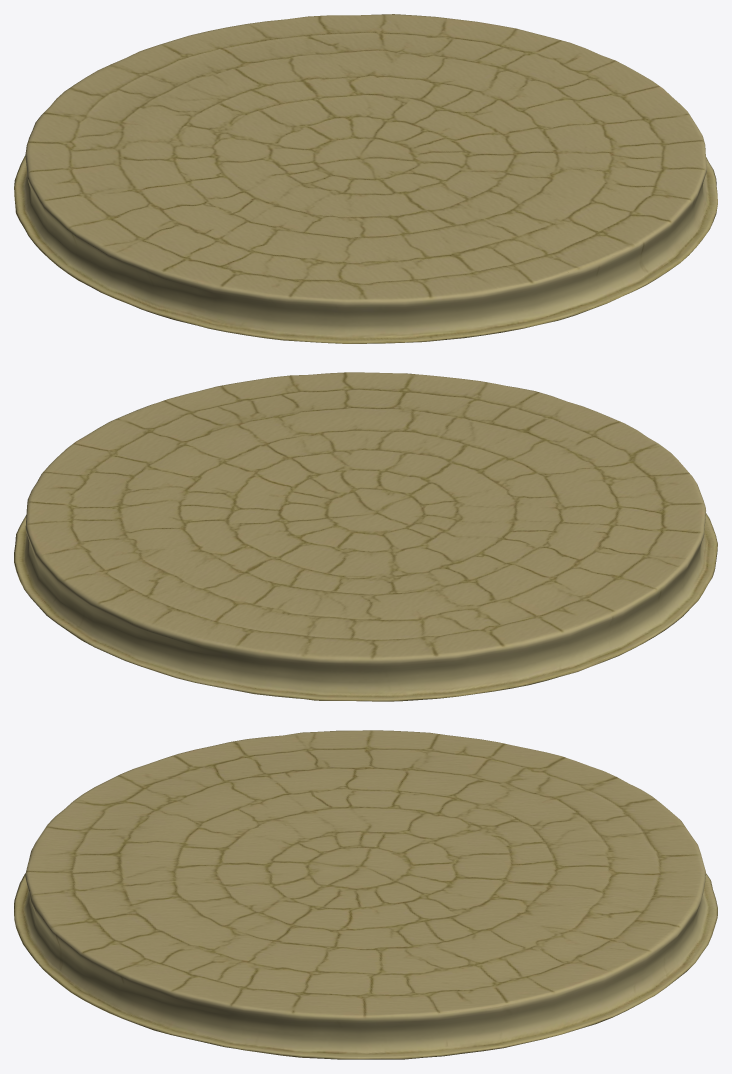
The model's file is suelo 1.fbx.
The picture shows the model from 3 angles, top to bottom: view 1: azimuth 30°, elevation 25°; view 2: azimuth 150°, elevation 25°; view 3: azimuth 270°, elevation 25°; orthographic projection.
Parts seen in each view (by area): view 1: tripo_node_ef5f2ad1; view 2: tripo_node_ef5f2ad1; view 3: tripo_node_ef5f2ad1.
Boxes of the visible parts, x1,y1,x2,y2 form: tripo_node_ef5f2ad1: (14, 14, 717, 343); tripo_node_ef5f2ad1: (14, 372, 717, 701); tripo_node_ef5f2ad1: (14, 730, 717, 1059).
Bounding box in the file's own units: 0.9978 × 0.0683 × 0.9997.
1 material, 1 textured.
